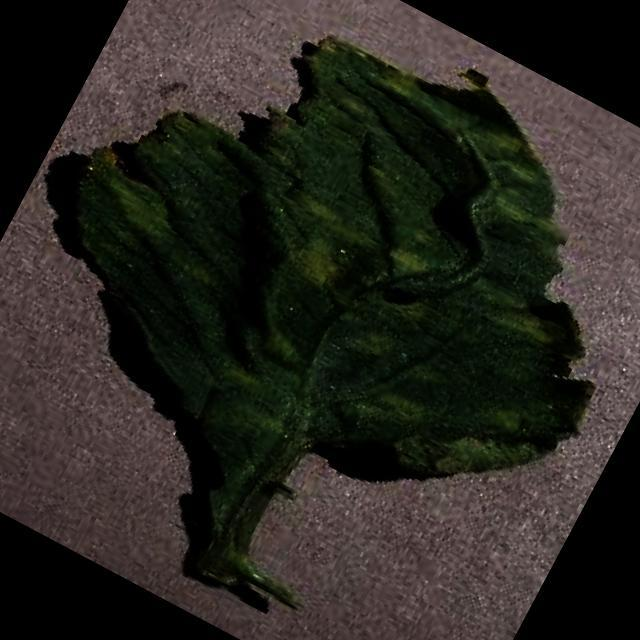Tomato mold leaf: (9, 0, 640, 580)
